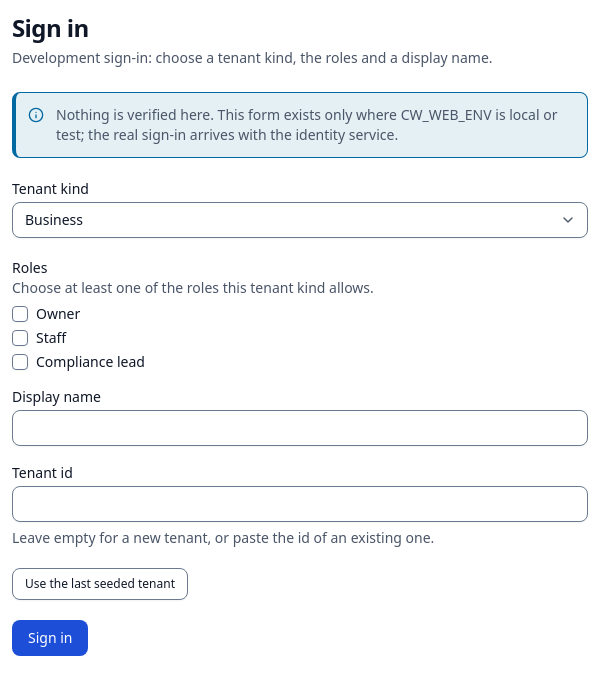
Test: DevSignInForm › fills the tenant id from the seeded tenant
The width and height of the screenshot is (605, 673).
Click the button "Use the last seeded tenant" at (100, 584), box [12, 568, 188, 600]
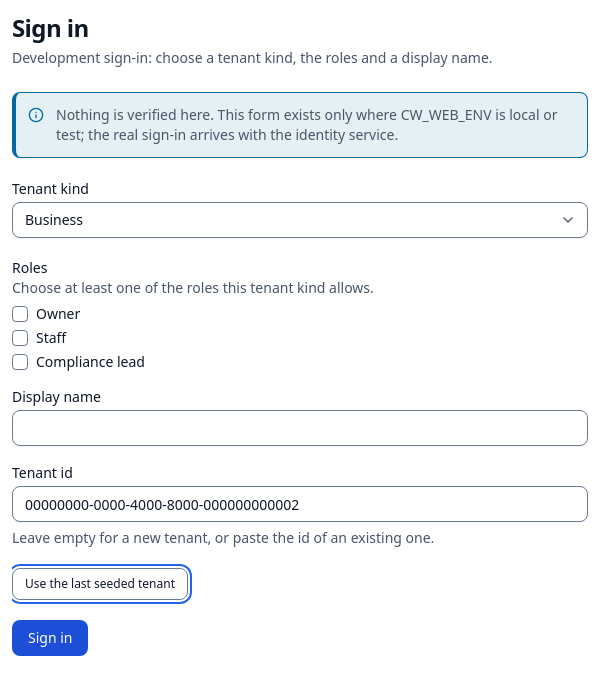
Expected: the field labelled "Tenant id" holds "00000000-0000-4000-8000-000000000002", [12, 486, 588, 522]
